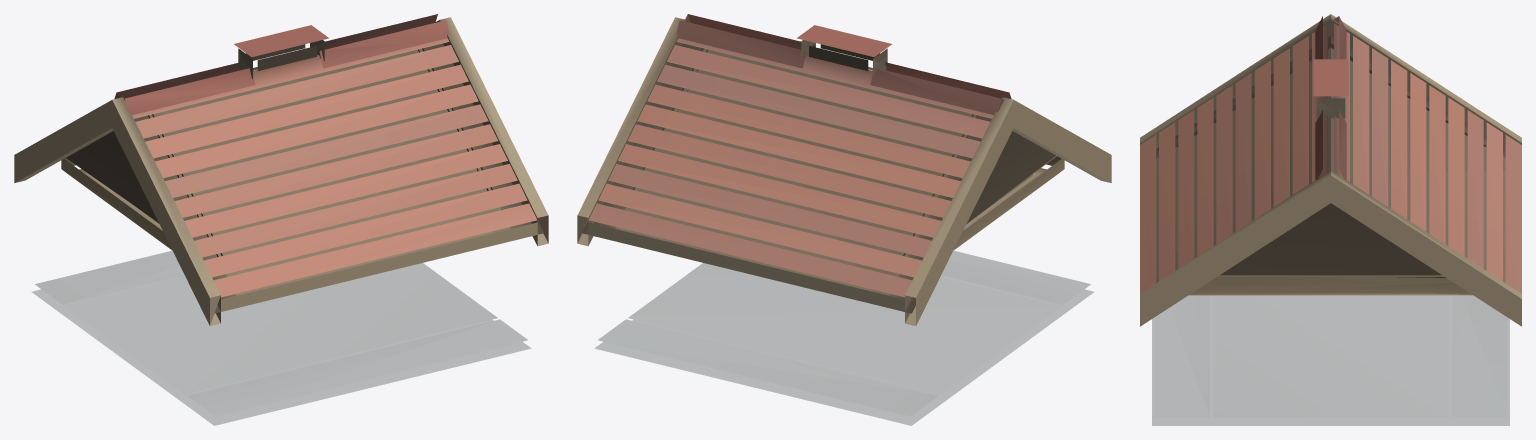
Rendered from shelter.lod.glb.
The picture shows the model from 3 angles, left to right: view 1: azimuth 30°, elevation 25°; view 2: azimuth 150°, elevation 25°; view 3: azimuth 270°, elevation 25°; orthographic projection. The views are drawn at different scales.
Parts seen in each view (by area): view 1: shelter.001; view 2: shelter.001; view 3: shelter.001.
Part boxes in pixels (x1,y1,x2,y2): shelter.001: (14,14,548,425); shelter.001: (577,14,1111,425); shelter.001: (1140,14,1521,425).
Bounding box in the file's own units: 8 × 6.3 × 8.
